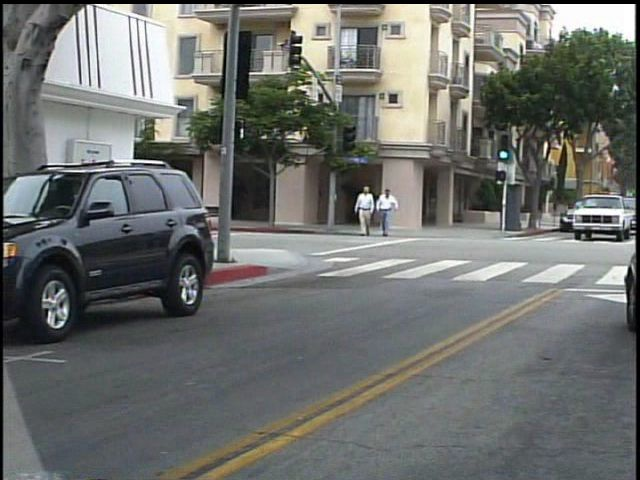person: (359, 181, 384, 243), (381, 184, 406, 241)
